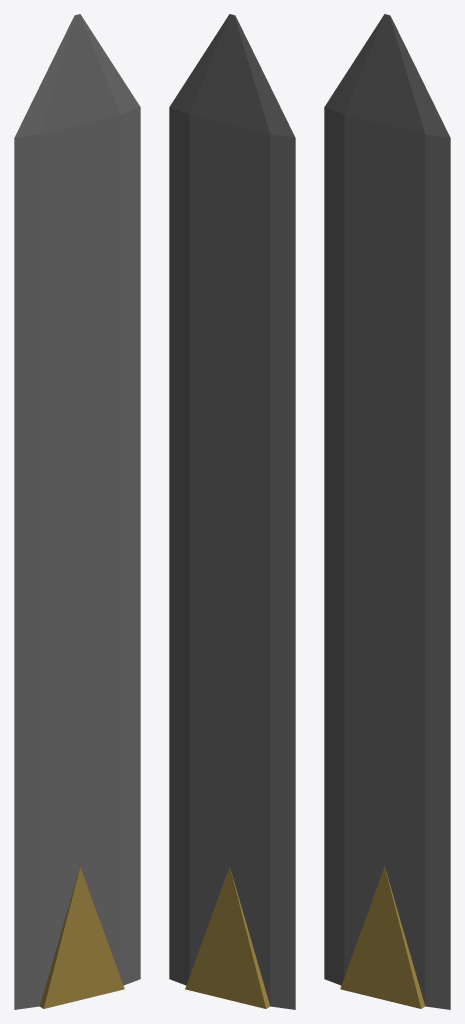
The model's file is DaggerBlade.fbx.
3 renders of one model, left to right at view 1: azimuth 30°, elevation 25°; view 2: azimuth 150°, elevation 25°; view 3: azimuth 330°, elevation 25°, orthographic.
Parts seen in each view (by area): view 1: DaggerBlade; view 2: DaggerBlade; view 3: DaggerBlade.
Part boxes in pixels (<box>): DaggerBlade: <box>14,14,140,1009</box>; DaggerBlade: <box>169,14,295,1009</box>; DaggerBlade: <box>324,14,450,1009</box>.
Size of the model in its own units: 2.38 by 17.66 by 0.4447.
